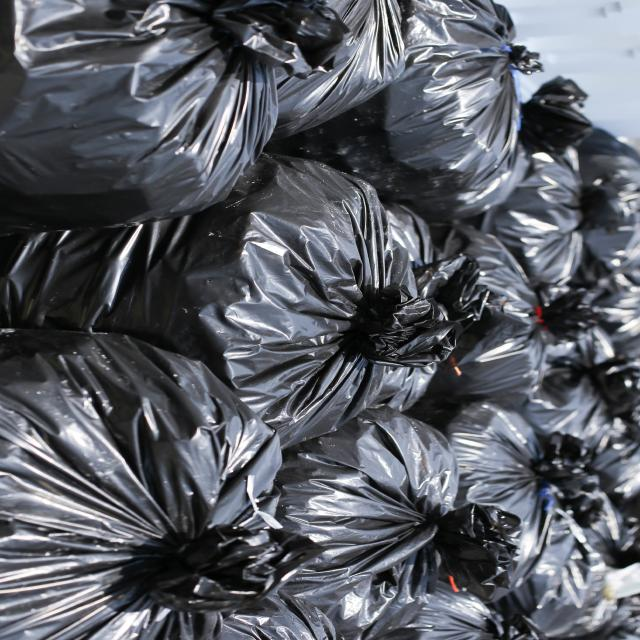Single-layer Plastic: (1, 155, 460, 448), (0, 330, 317, 640), (387, 139, 639, 520), (0, 0, 347, 234), (268, 0, 541, 221), (276, 406, 519, 640), (446, 405, 629, 640), (271, 0, 405, 140), (450, 411, 539, 549)
